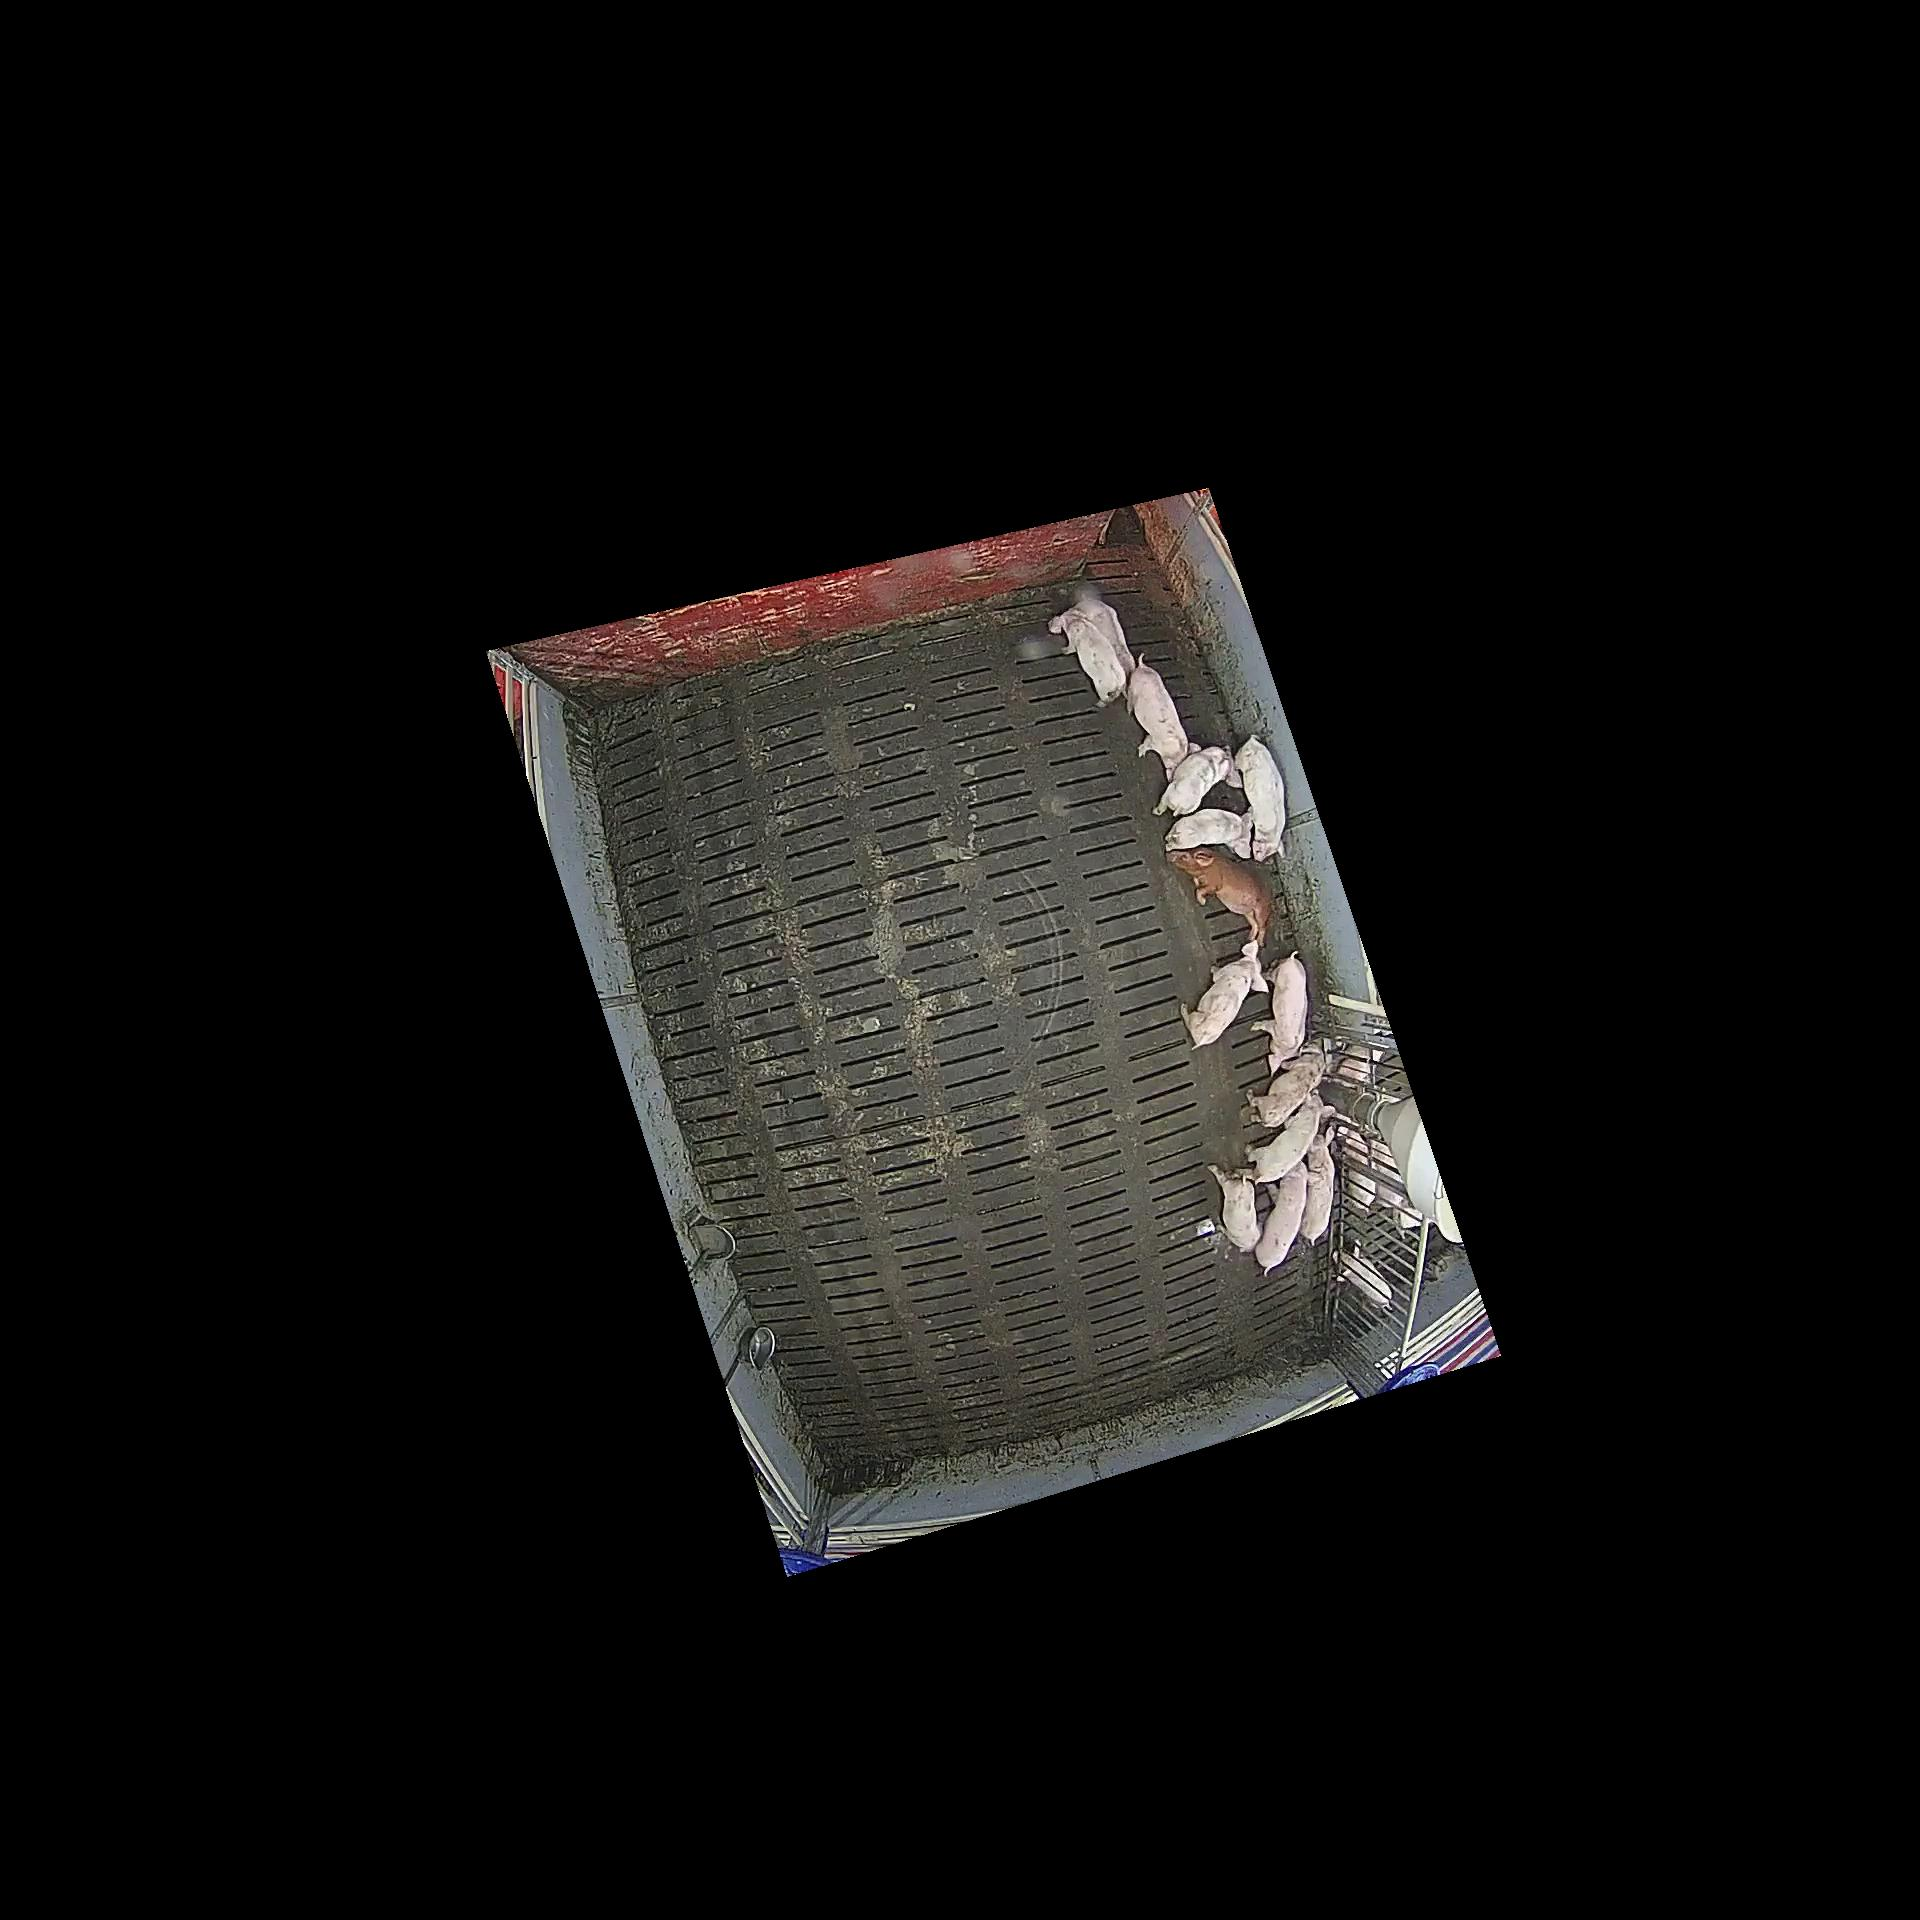pig: (1166, 847, 1273, 948), (1225, 1090, 1336, 1187), (1182, 941, 1269, 1050), (1127, 654, 1199, 784), (1048, 608, 1127, 707), (1255, 1160, 1322, 1276), (1247, 1037, 1333, 1127), (1250, 951, 1308, 1076), (1234, 735, 1285, 862), (1153, 745, 1243, 816), (1074, 593, 1136, 675), (1206, 1164, 1262, 1254), (1166, 809, 1254, 858), (1299, 1127, 1335, 1245)
